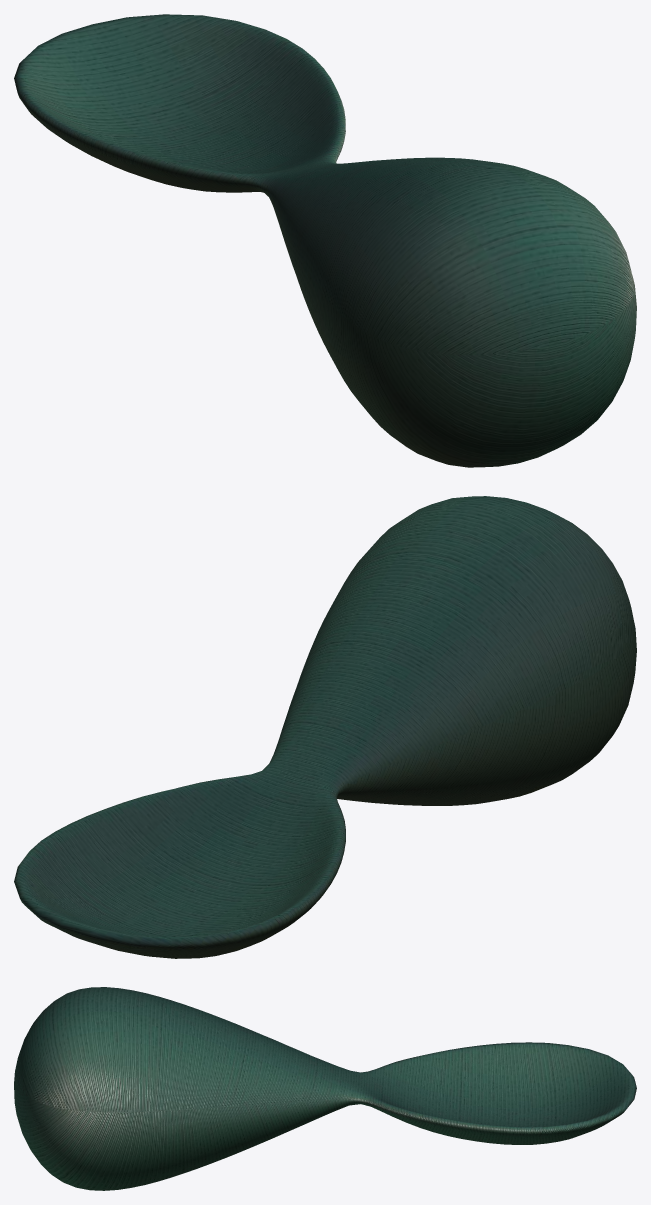
The model's file is 04_RolyPoly.glb.
3 renders of one model, top to bottom at view 1: azimuth 30°, elevation 25°; view 2: azimuth 150°, elevation 25°; view 3: azimuth 270°, elevation 25°, orthographic. The views are drawn at different scales.
Parts seen in each view (by area): view 1: 04_Roly Poly; view 2: 04_Roly Poly; view 3: 04_Roly Poly.
Boxes of the visible parts, left/top/right/bottom form: 04_Roly Poly: left=14, top=14, right=636, bottom=467; 04_Roly Poly: left=14, top=496, right=636, bottom=958; 04_Roly Poly: left=14, top=987, right=636, bottom=1190.
Size of the model in its own units: 0.0404 by 0.0394 by 0.1221.
1 material, 1 textured.
